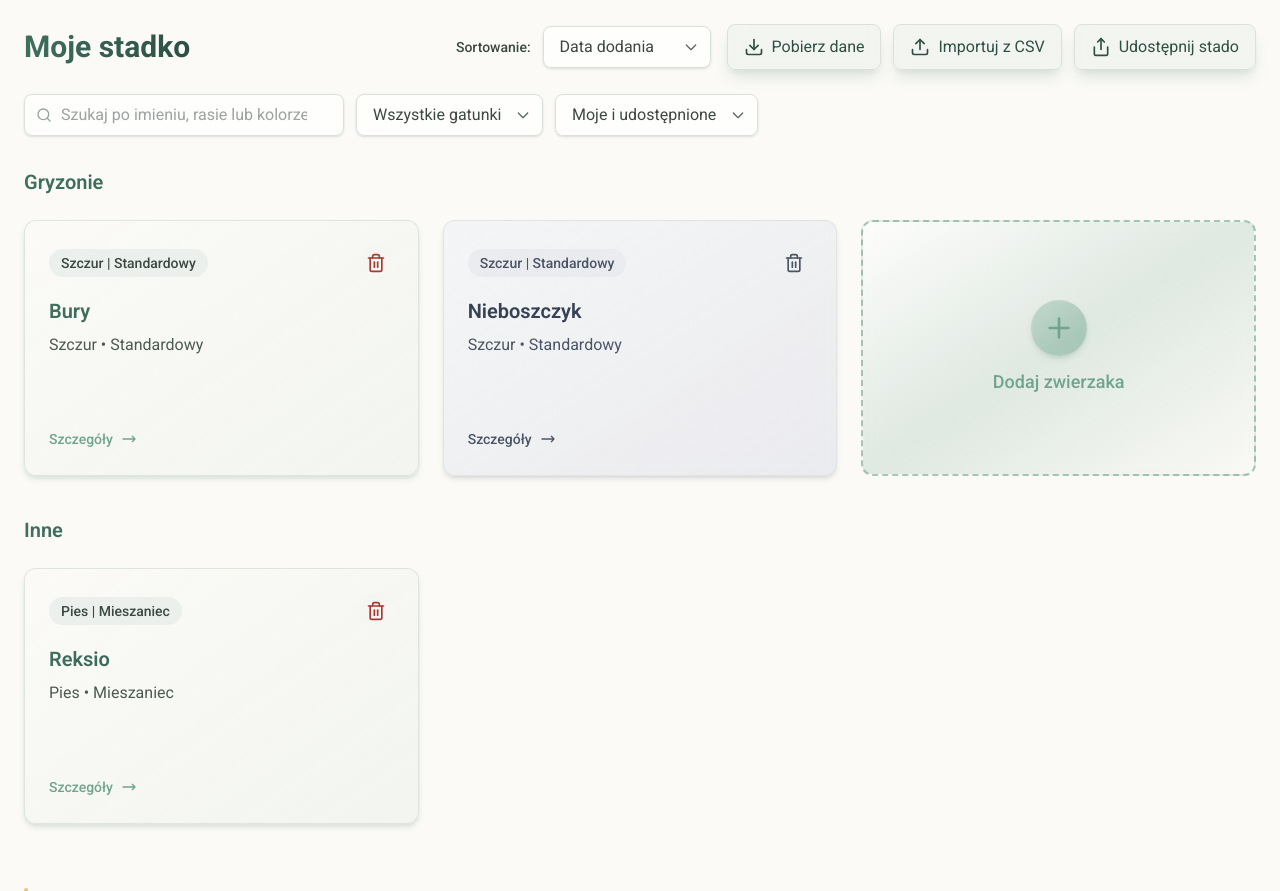
Scenario: Dashboard filtering › filters pets by animal type
Select "Pies" in the dropdown named "Filtruj po gatunku" at point(450, 115), box [356, 94, 543, 136]
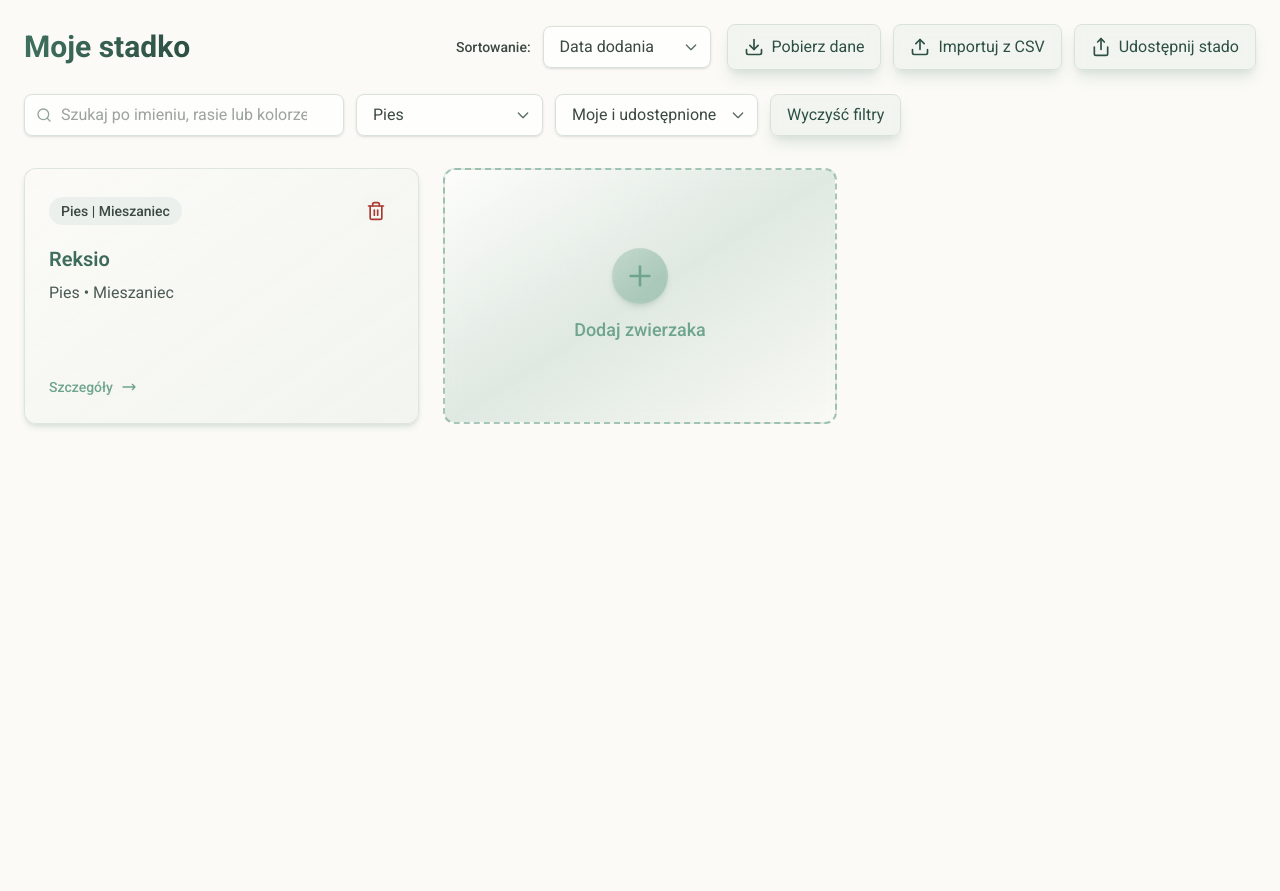
Expected: the heading "Reksio" is shown, [49, 245, 394, 273]
Now the heading "Bury" is gone
